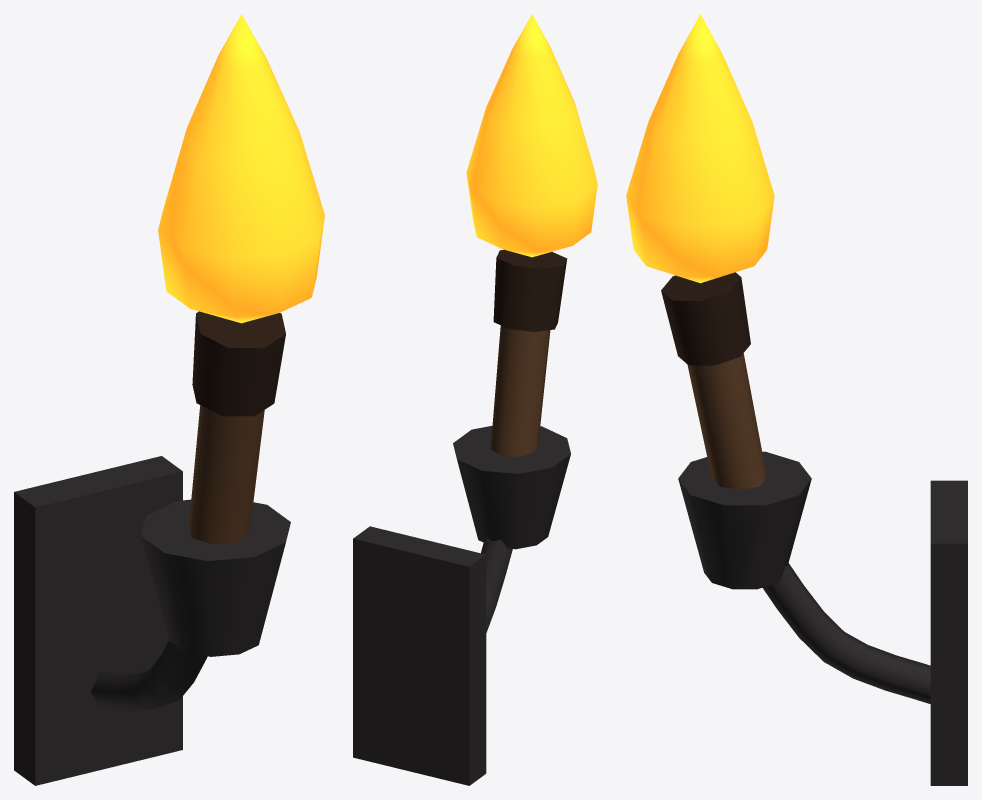
File: 79f115c3-80de-4985-b2f8-67bedadd1a5b.glb
3 views of the same model, side by side, from view 1: azimuth 30°, elevation 25°; view 2: azimuth 150°, elevation 25°; view 3: azimuth 270°, elevation 25° (orthographic). The views are drawn at different scales.
Visible parts, largest first — view 1: Torch, Flame; view 2: Torch, Flame; view 3: Torch, Flame.
Boxes of the visible parts, x1,y1,x2,y2 form: Torch: [14, 311, 290, 785]; Flame: [158, 14, 324, 323]; Torch: [353, 249, 570, 785]; Flame: [466, 14, 597, 257]; Torch: [661, 272, 967, 785]; Flame: [626, 14, 774, 283].
Size of the model in its own units: 0.2 by 1.1 by 0.46.
